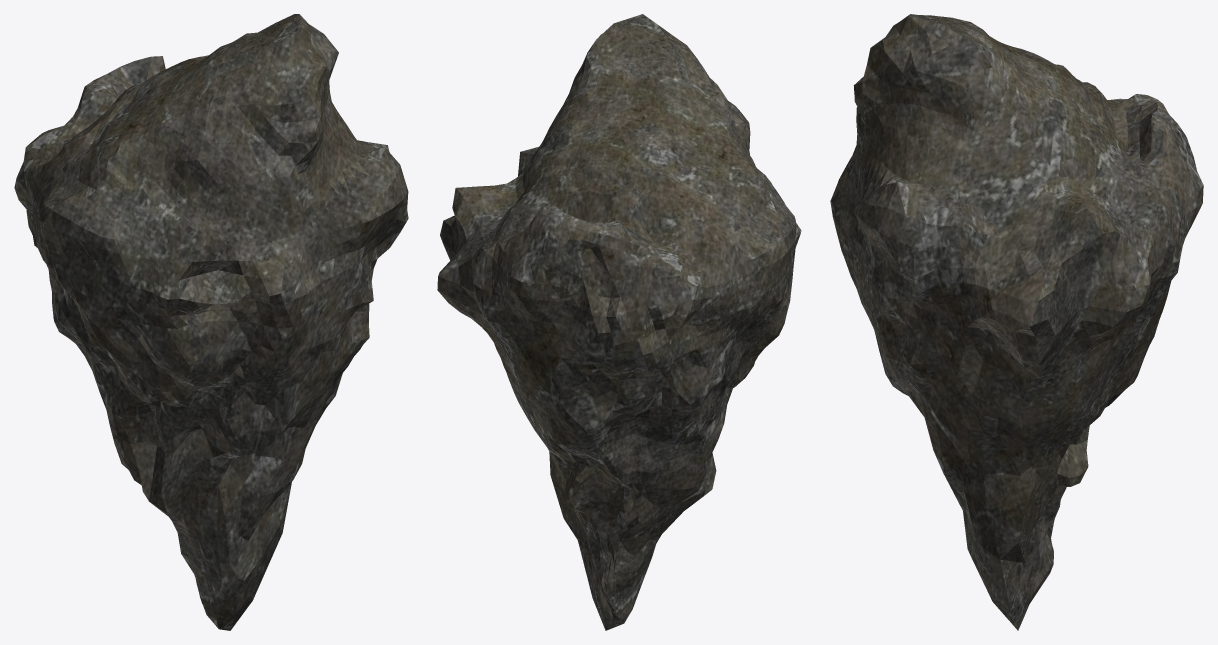
Rendered from floating_rock_3.glb.
The picture shows the model from 3 angles, left to right: view 1: azimuth 30°, elevation 25°; view 2: azimuth 150°, elevation 25°; view 3: azimuth 270°, elevation 25°; orthographic projection. The views are drawn at different scales.
Parts seen in each view (by area): view 1: Floating rock 3.001; view 2: Floating rock 3.001; view 3: Floating rock 3.001.
Part boxes in pixels (left/top/right/bottom): Floating rock 3.001: left=14, top=14, right=408, bottom=630; Floating rock 3.001: left=437, top=14, right=801, bottom=630; Floating rock 3.001: left=830, top=14, right=1203, bottom=630.
Size of the model in its own units: 5.87 by 9.7 by 5.27.
Materials: 1 (1 with a texture image).
